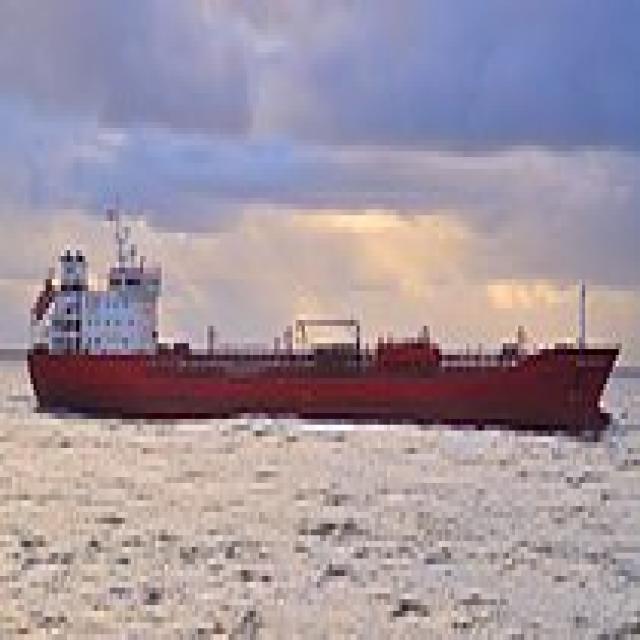Tanker: (21, 186, 616, 425)
